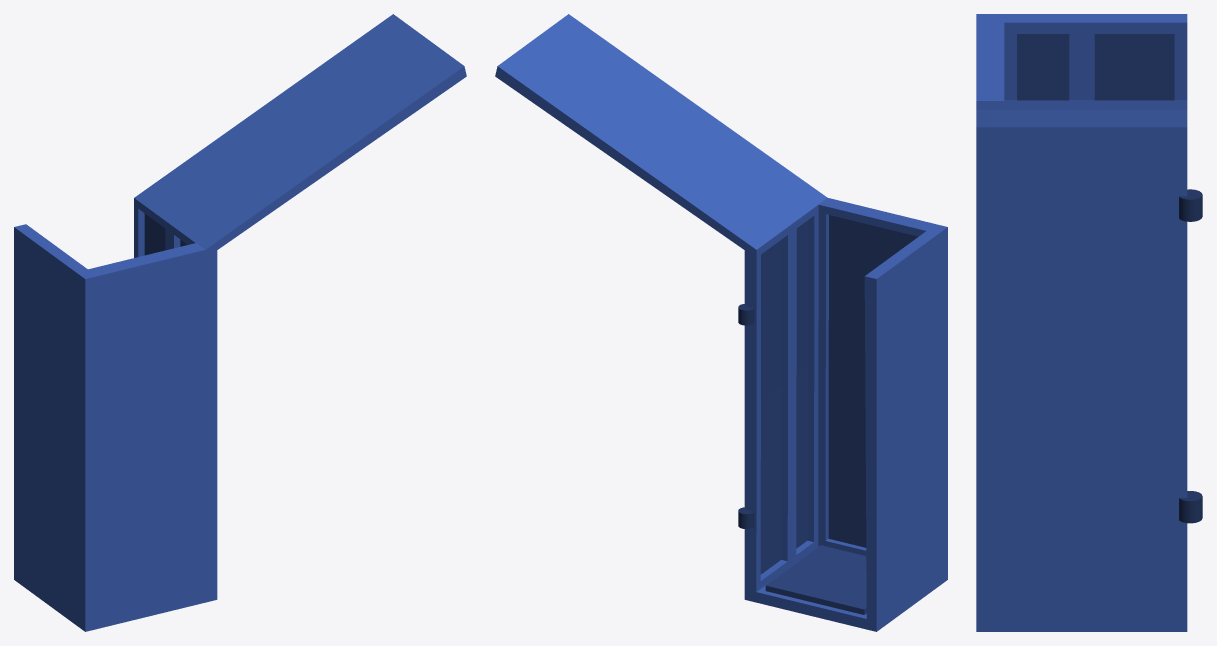
File: Safe (3).fbx
3 renders of one model, left to right at view 1: azimuth 30°, elevation 25°; view 2: azimuth 150°, elevation 25°; view 3: azimuth 270°, elevation 25°, orthographic. The views are drawn at different scales.
Visible parts, largest first — view 1: Cube__2_; view 2: Cube__2_; view 3: Cube__2_.
Part boxes in pixels (left/top/right/bottom): Cube__2_: left=14, top=14, right=466, bottom=631; Cube__2_: left=495, top=14, right=947, bottom=631; Cube__2_: left=976, top=14, right=1202, bottom=631.
Bounding box in the file's own units: 637 × 755 × 221.
